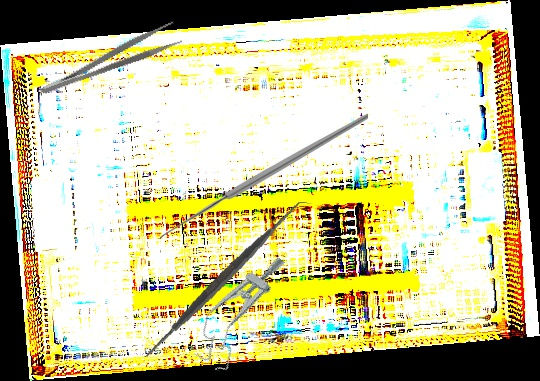Dressing Forceps: (33, 19, 185, 99)
Hook Surgical: (160, 111, 368, 253)
Spatula Surgical: (131, 188, 315, 371)
Speculum: (184, 242, 294, 375)
